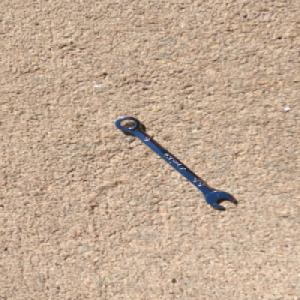Wrench: (112, 116, 237, 209)
